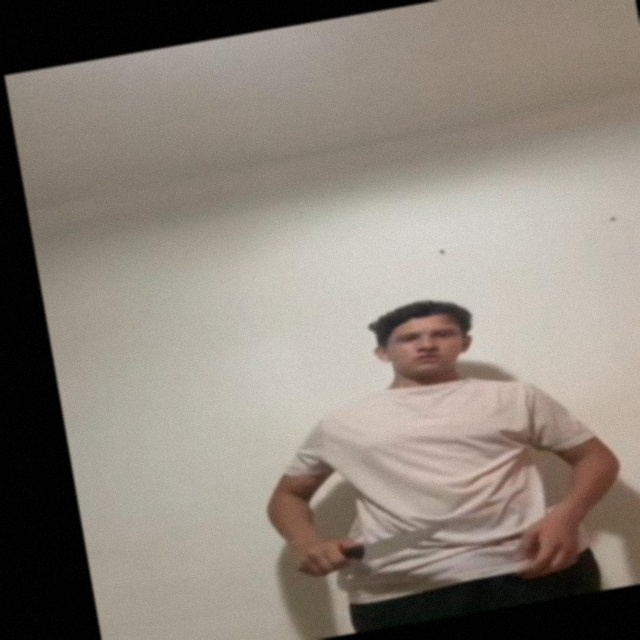Sharp-Object: (364, 524, 445, 559)
